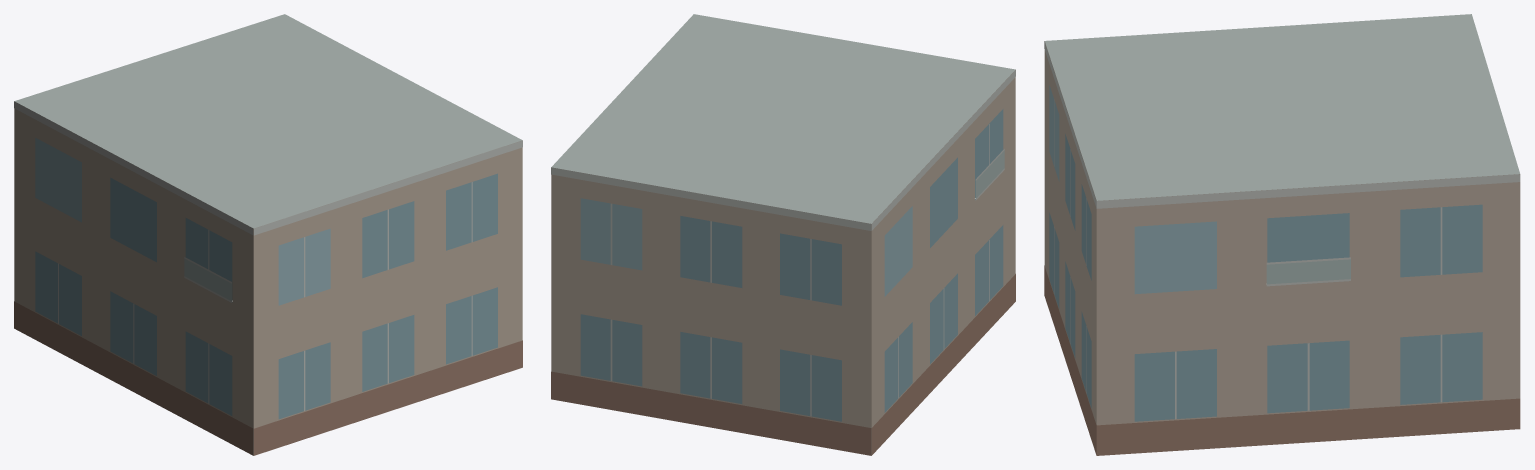
The model's file is survey-upis-32741440.glb.
3 renders of one model, left to right at view 1: azimuth 30°, elevation 25°; view 2: azimuth 150°, elevation 25°; view 3: azimuth 270°, elevation 25°, orthographic. The views are drawn at different scales.
Visible parts, largest first — view 1: survey-upis-32741440.tmp; view 2: survey-upis-32741440.tmp; view 3: survey-upis-32741440.tmp.
Part boxes in pixels (<box>): survey-upis-32741440.tmp: <box>14,14,522,455</box>; survey-upis-32741440.tmp: <box>551,14,1015,455</box>; survey-upis-32741440.tmp: <box>1044,14,1520,455</box>.
Size of the model in its own units: 12.27 by 7.8 by 13.2.
